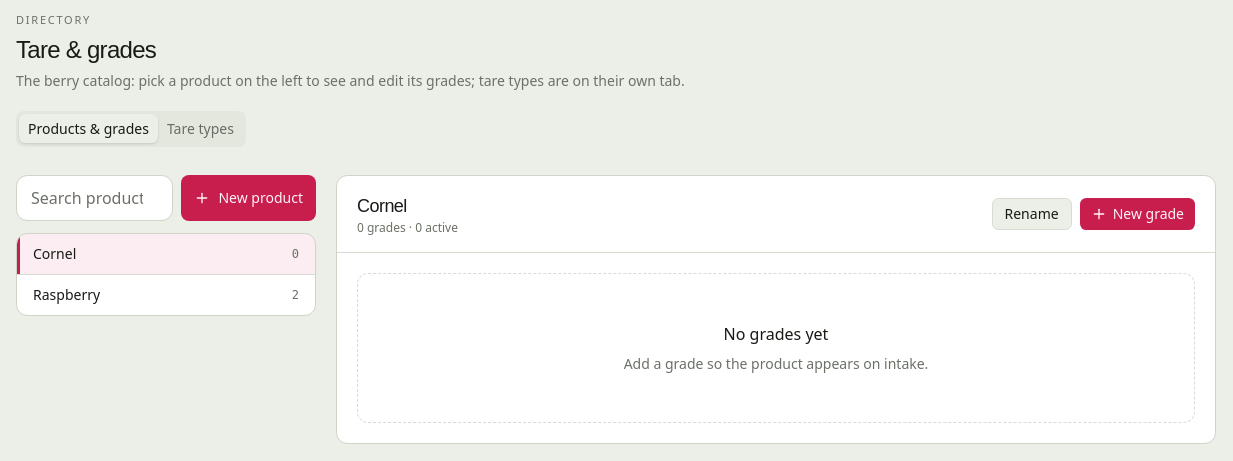
Test: CatalogPage › shows the tare table after switching to the Tare types tab
The width and height of the screenshot is (1233, 461).
Click the tab "Tare types". click: (200, 128)
box: left=158, top=114, right=243, bottom=143
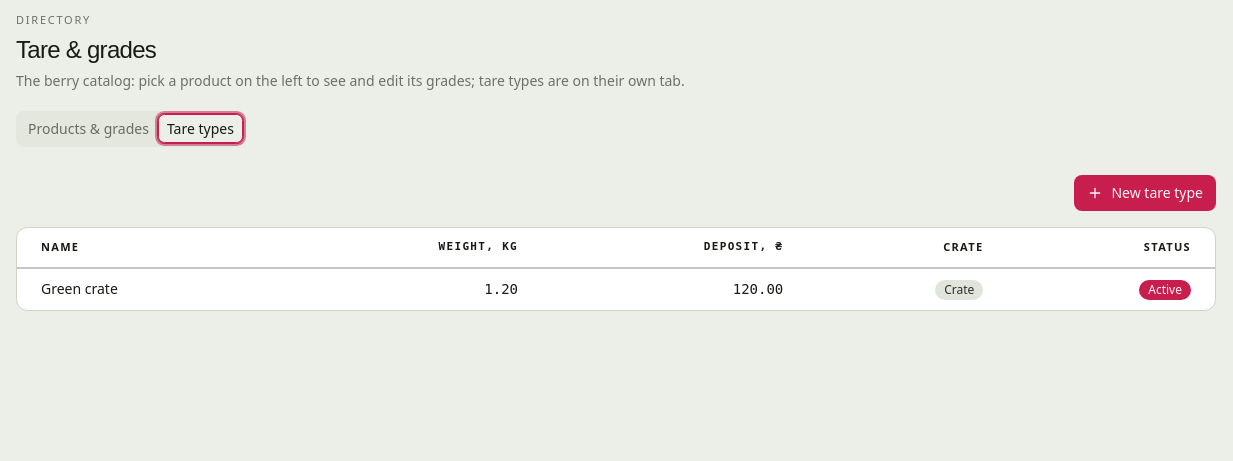
Expected: the text "Green crate" is shown, left=41, top=279, right=118, bottom=298
Expected: the text "1.20" is shown, left=277, top=268, right=542, bottom=310
Expected: the text "120.00" is shown, left=542, top=268, right=807, bottom=310
